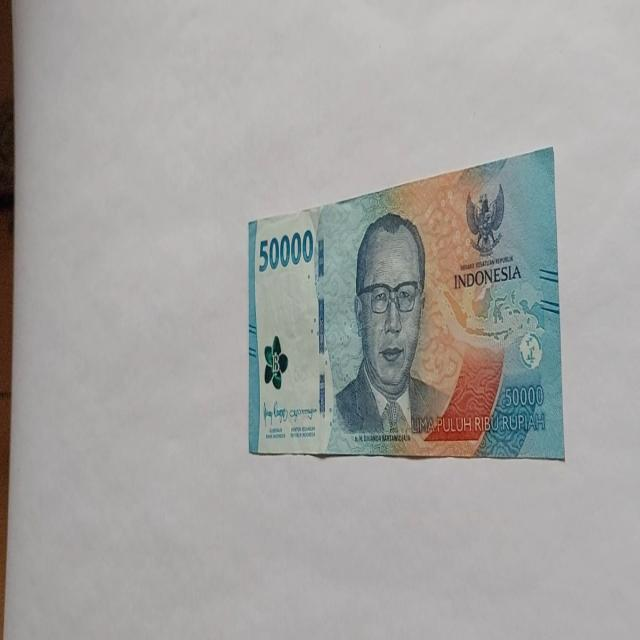lima puluh ribu rupiah: (246, 146, 564, 462), (332, 211, 450, 441)
